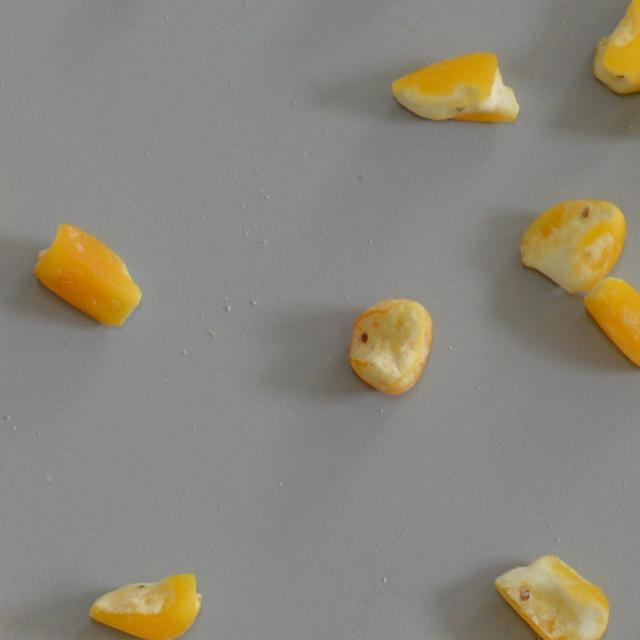dañado: (520, 192, 628, 294), (492, 550, 612, 640), (336, 298, 444, 396)
pelicula: (31, 220, 142, 328), (582, 274, 640, 368)
punto_negro: (387, 48, 524, 128), (86, 566, 202, 640), (586, 0, 640, 96)
